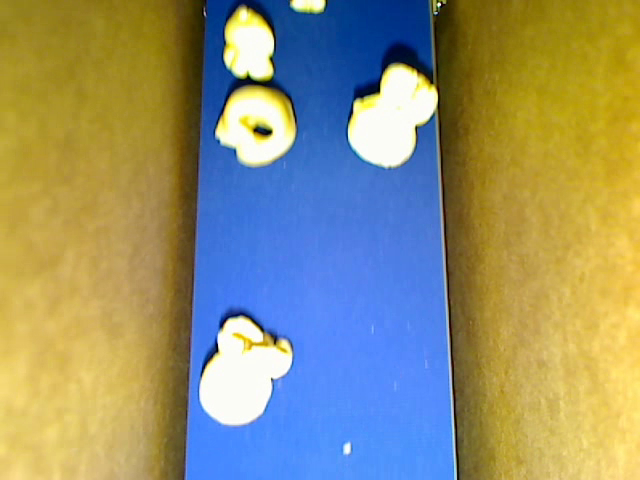tortellini: (213, 84, 297, 169)
